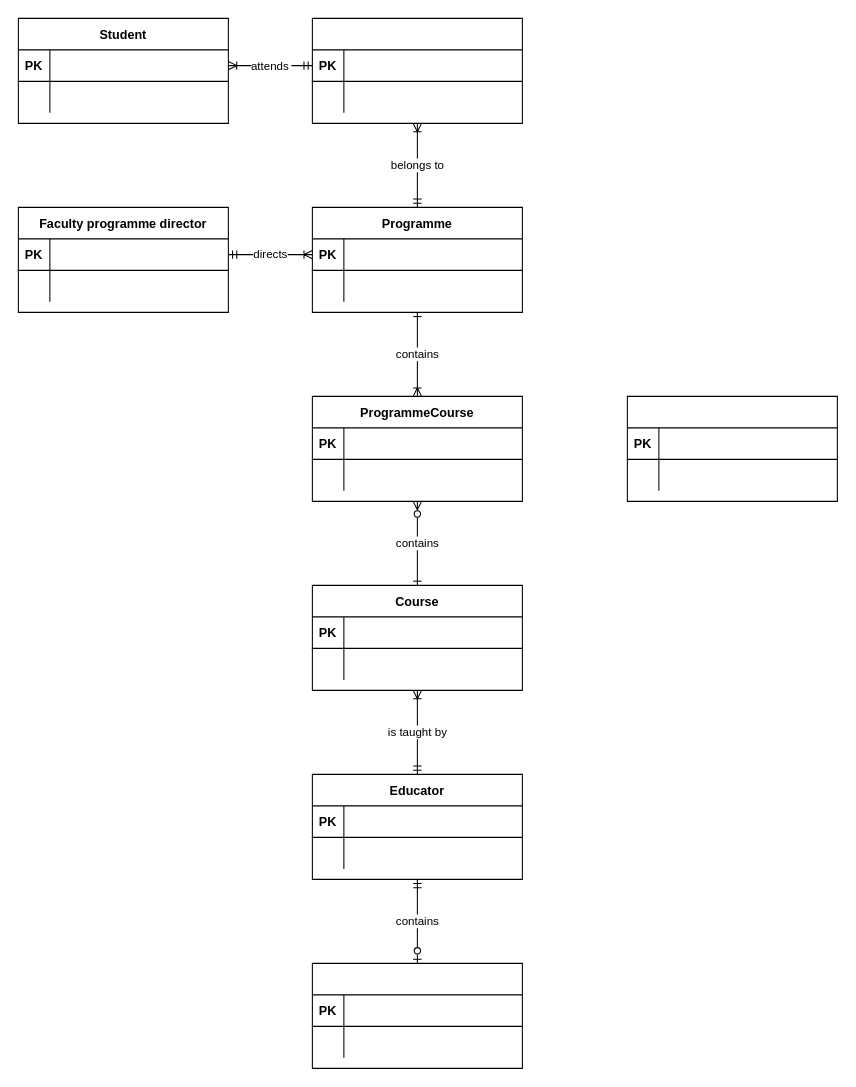
The diagram is 856 pixels wide and 1087 high, and some of its shapes have lost their labels. Here are the shapes that lost their labels. From the top down, the box of each, then its label:
(311, 17, 522, 123): Class
(626, 395, 837, 501): Location
(311, 962, 522, 1068): Consultant
